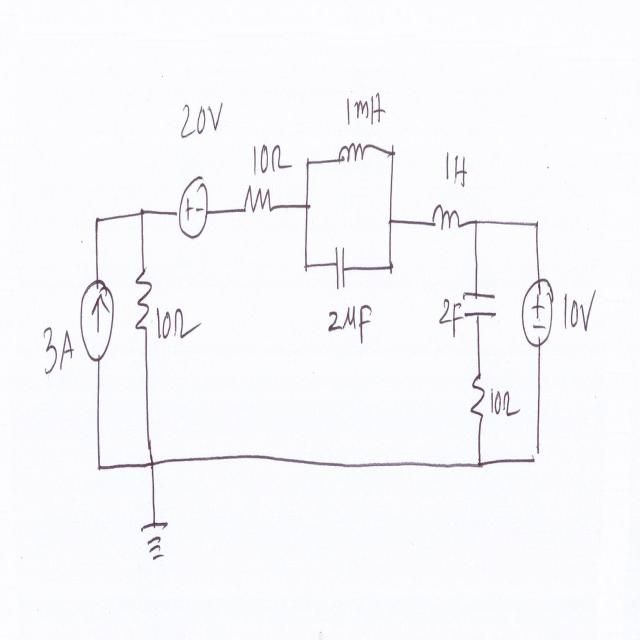capacitor: (461, 277, 498, 332), (331, 239, 350, 296)
current_source: (76, 270, 115, 369)
ground: (137, 511, 172, 568)
inductor: (428, 192, 464, 242), (335, 135, 373, 172)
resistor: (134, 256, 154, 342), (239, 178, 276, 223), (468, 360, 490, 427)
voltage_source: (175, 163, 211, 249), (519, 268, 555, 350)
